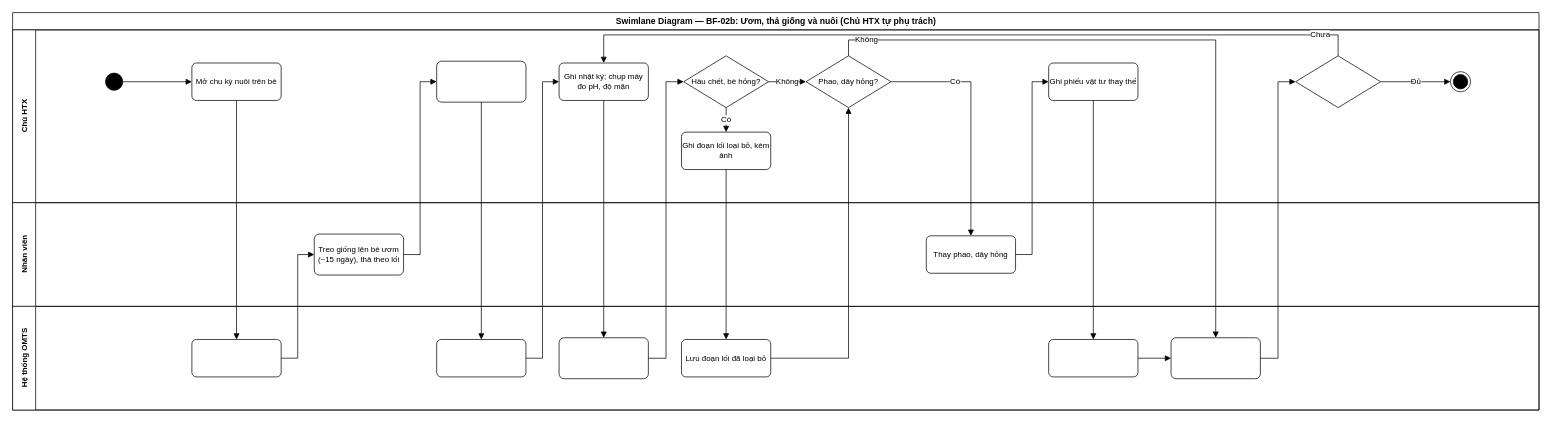
Image size: 1552x423. Some labels were removed from this diagram. The shapes that lost their labels are listed below. From the top down, each one's centre as x and y in pixels, then its label:
At pixel 481 81: "Ghi buổi thả: lối, đoạn đã thả, lô giống".
At pixel 1338 81: "Đủ 8–10 tháng?".
At pixel 236 358: "Tạo chu kỳ; trạng thái = Đang mở".
At pixel 481 358: "Lưu buổi thả; cập nhật sơ đồ bè".
At pixel 603 358: "Lưu chỉ số nước; vượt ngưỡng thì cảnh báo Chủ HTX".
At pixel 1093 358: "Tính thành tiền; lưu phiếu vật tư".
At pixel 1215 358: "Tổng hợp tiến độ chu kỳ trên sơ đồ bè".
